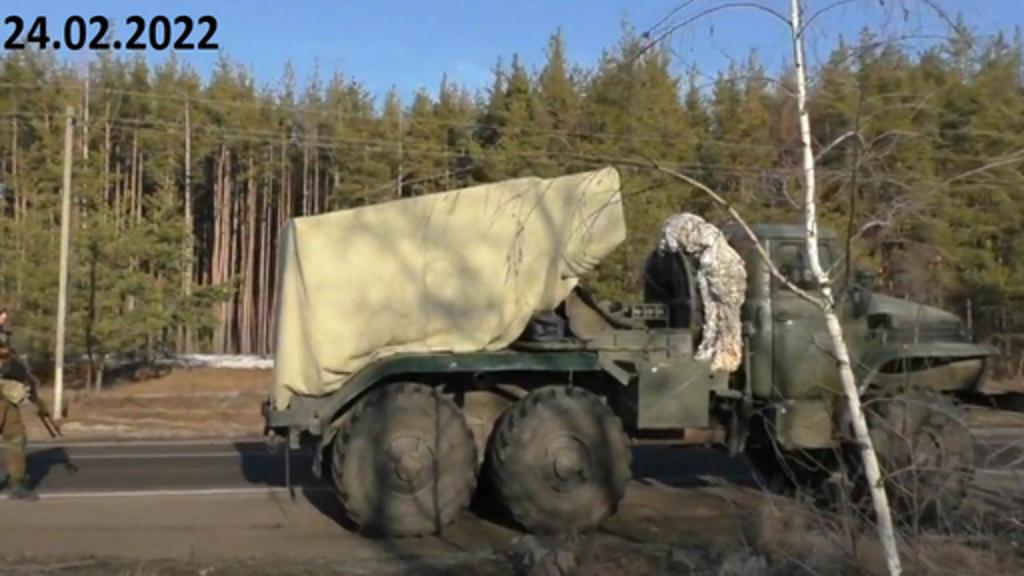MLRS: (272, 160, 996, 536)
